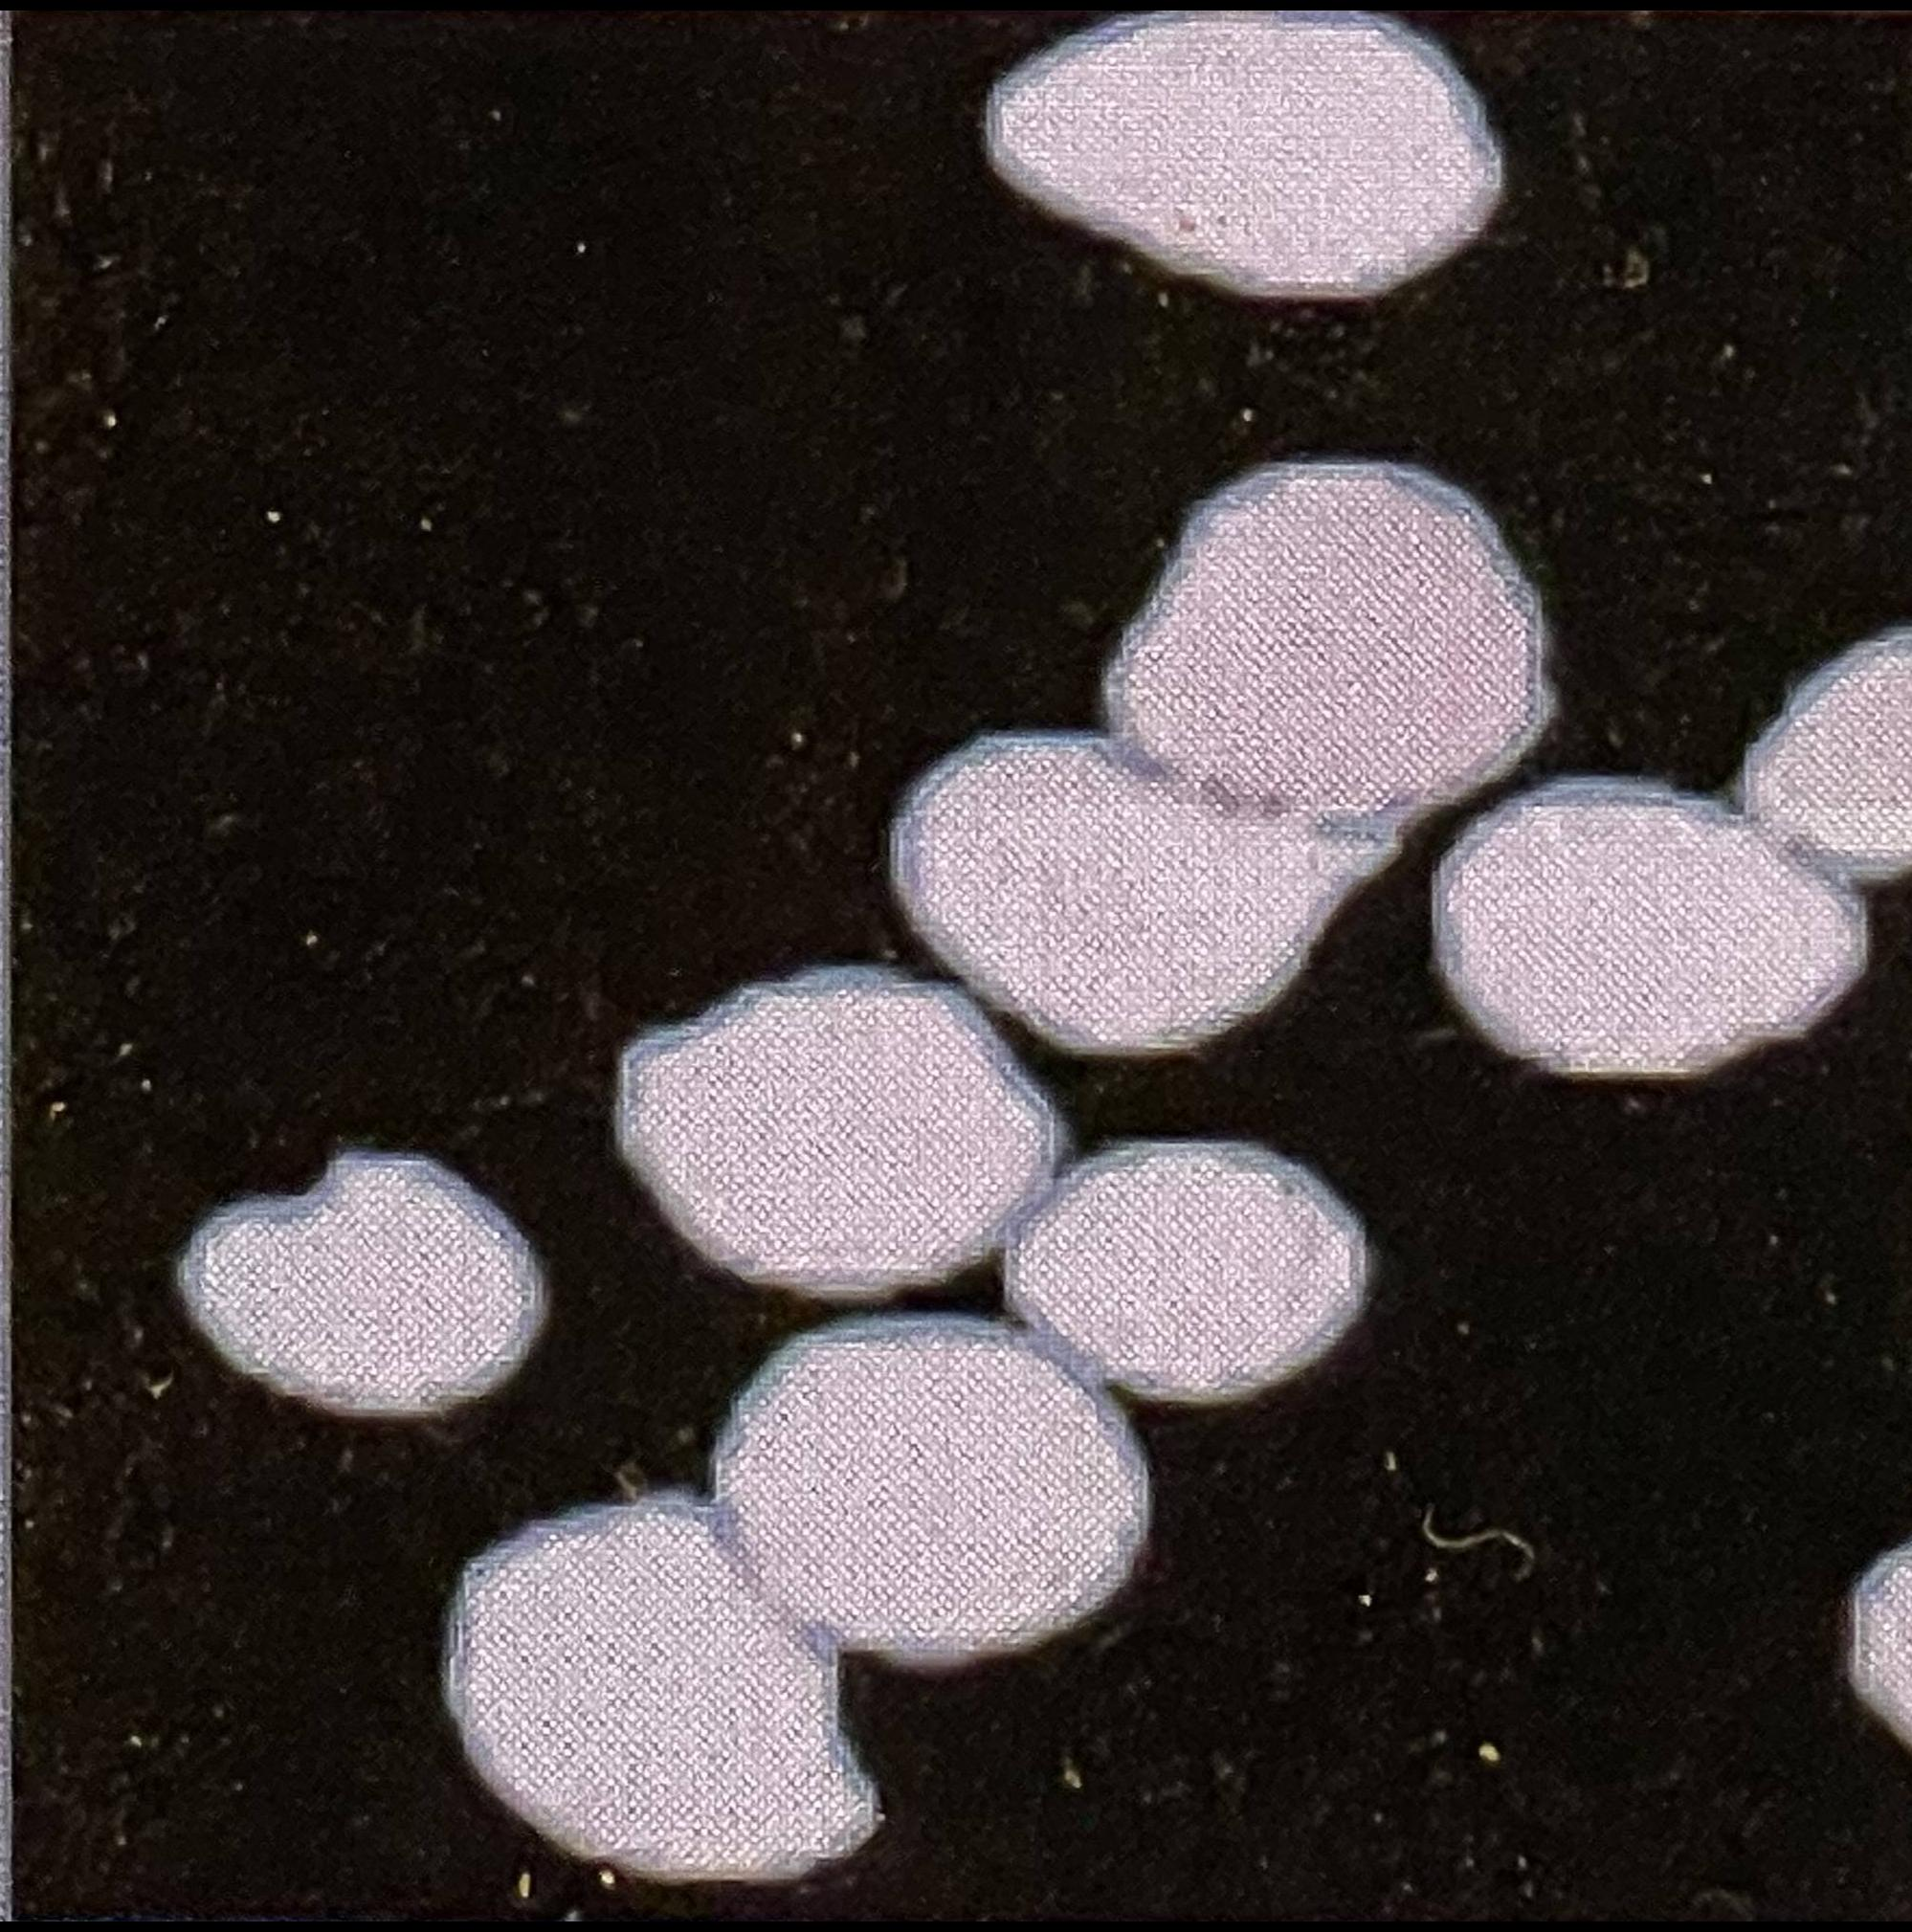cell: (448, 1317, 1149, 1878), (891, 461, 1548, 1053), (986, 11, 1504, 296), (616, 967, 1063, 1294), (1436, 778, 1870, 1074), (177, 1153, 545, 1426), (175, 1154, 545, 1415), (1005, 1142, 1371, 1403), (1744, 625, 1912, 879), (1851, 1543, 1912, 1750)
